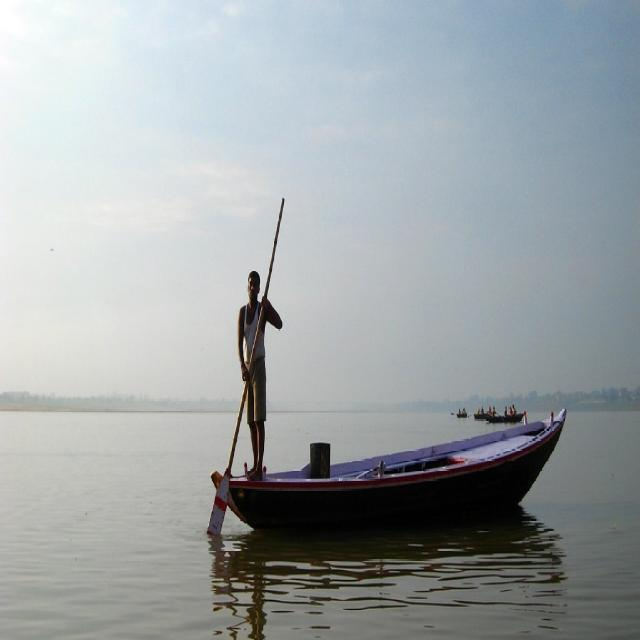boat: (210, 401, 575, 528), (482, 407, 531, 423), (453, 404, 470, 421), (471, 406, 486, 420)
